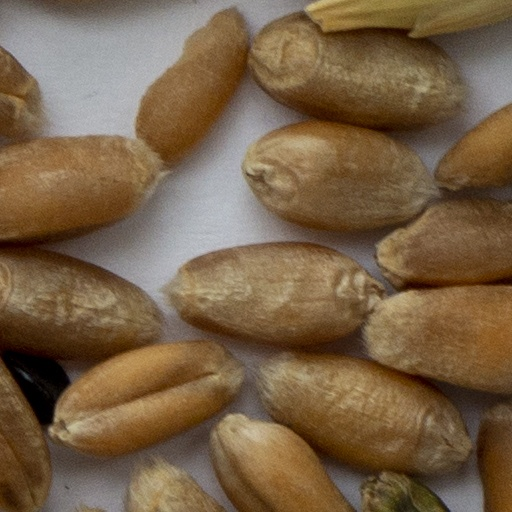Fallopia-Convolvulus-poly: (3, 352, 66, 423)
